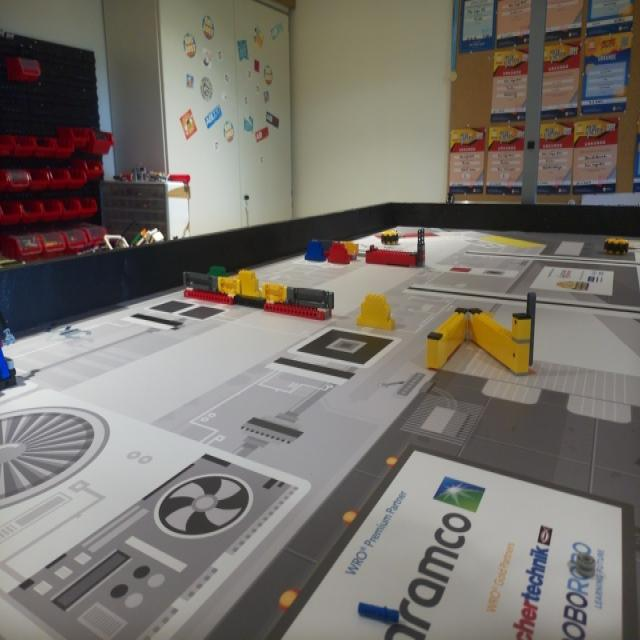blau: (304, 239, 326, 261)
gruen: (208, 266, 228, 277)
rot: (329, 242, 353, 266)
yellow: (356, 293, 395, 330), (234, 271, 263, 296)
